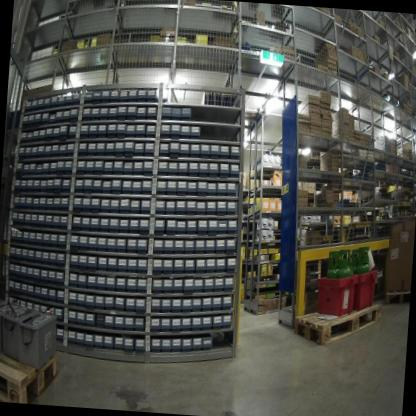pallet: (288, 291, 386, 357), (0, 334, 71, 405), (386, 287, 409, 306)
small_load_carrier: (312, 266, 357, 323), (353, 264, 385, 325)
